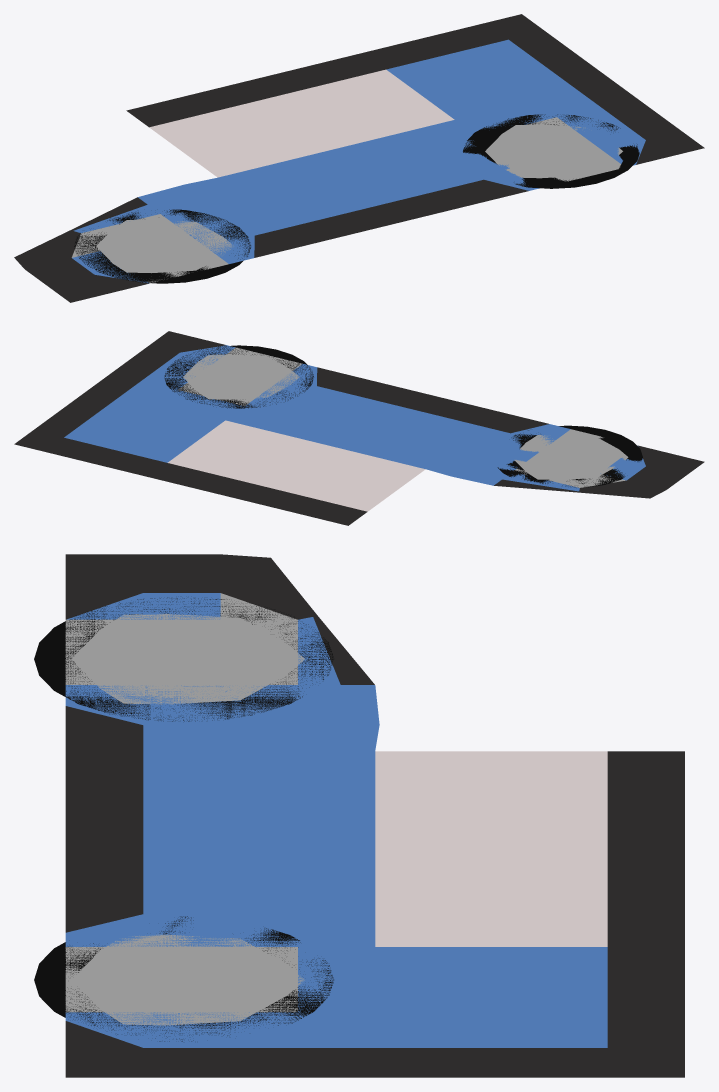
Rendered from car_blue.fbx.
3 renders of one model, top to bottom at view 1: azimuth 30°, elevation 25°; view 2: azimuth 150°, elevation 25°; view 3: azimuth 270°, elevation 25°, orthographic. The views are drawn at different scales.
Visible parts, largest first — view 1: pPlane8; view 2: pPlane8; view 3: pPlane8.
Boxes of the visible parts, x1=… form: pPlane8: x1=14, y1=14, x2=704, y2=302; pPlane8: x1=14, y1=331, x2=704, y2=525; pPlane8: x1=34, y1=554, x2=684, y2=1077.
Bounding box in the file's own units: 0.9063 × 0 × 0.4764.
